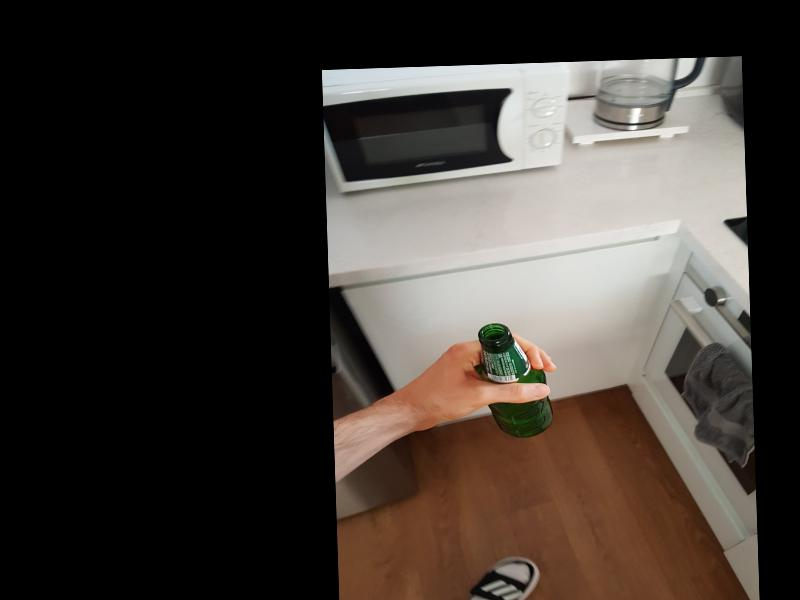Beer: (477, 323, 553, 439)
